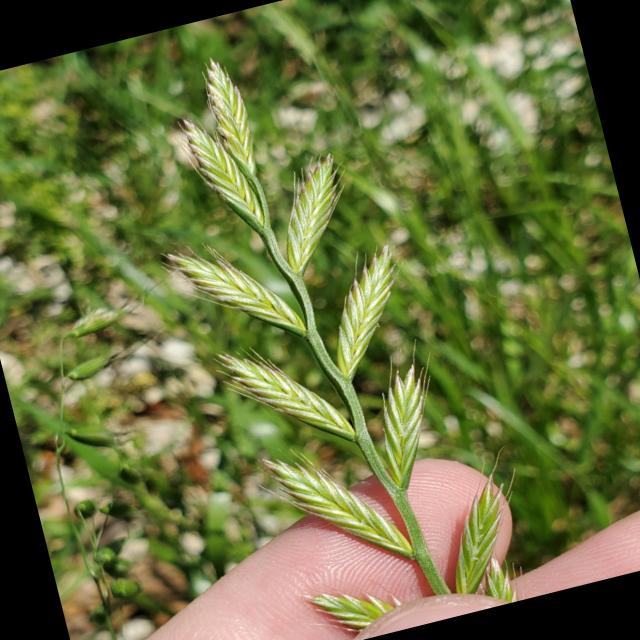Lolium: (113, 11, 534, 640)
